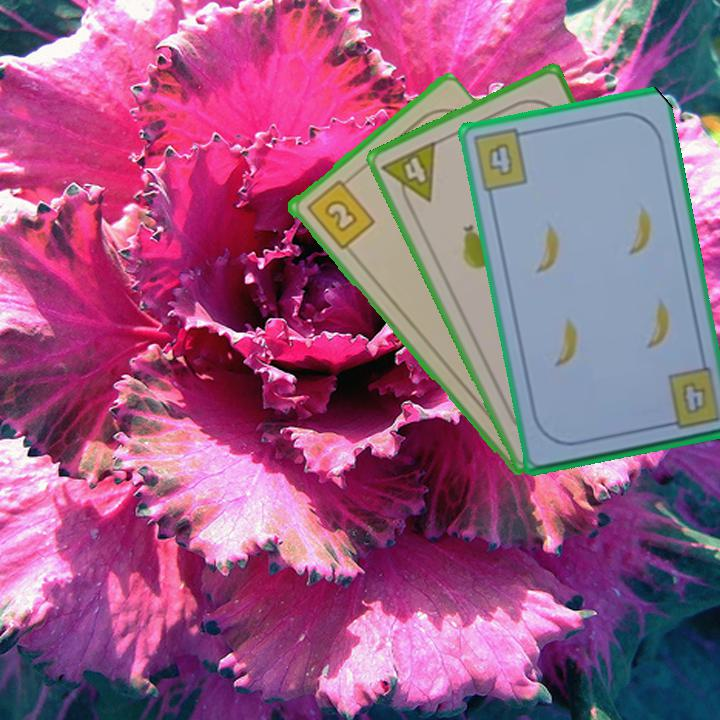2b: (302, 174, 377, 252)
4b: (468, 125, 532, 194), (677, 377, 709, 417)
4p: (378, 137, 439, 213)
